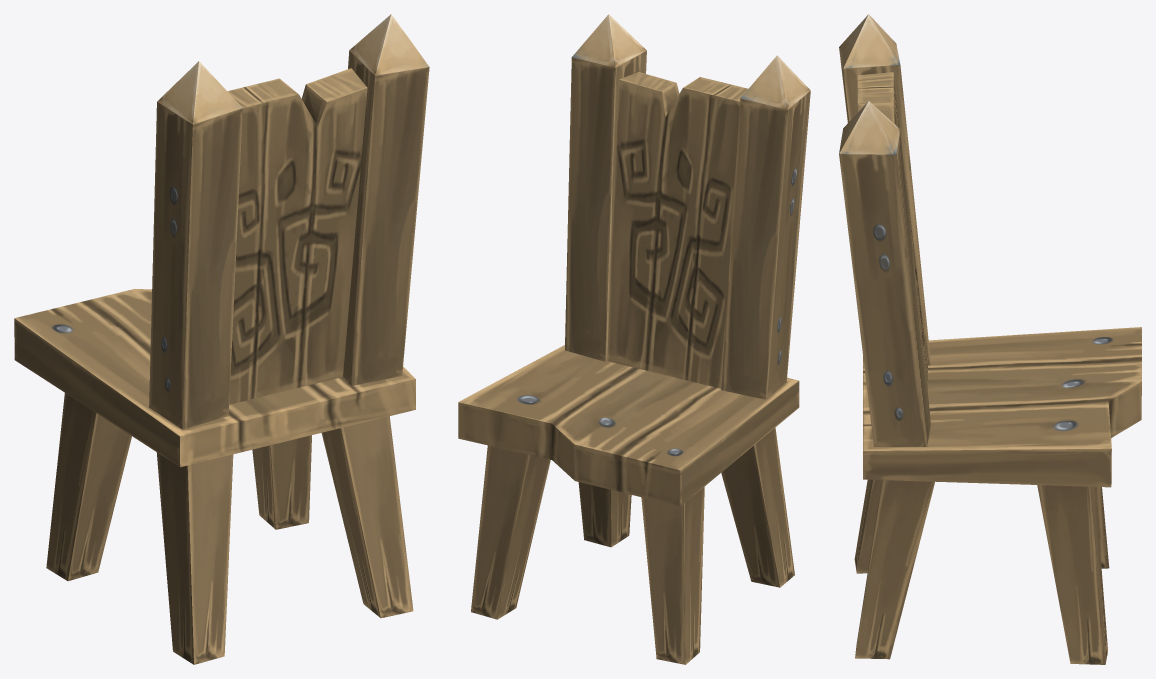
The model's file is chair.FBX.
3 views of the same model, side by side, from view 1: azimuth 30°, elevation 25°; view 2: azimuth 150°, elevation 25°; view 3: azimuth 270°, elevation 25° (orthographic). The views are drawn at different scales.
Visible parts, largest first — view 1: chair; view 2: chair; view 3: chair.
Boxes of the visible parts, x1=… form: chair: x1=14, y1=14, x2=429, y2=664; chair: x1=458, y1=14, x2=810, y2=664; chair: x1=839, y1=14, x2=1141, y2=664.
Bounding box in the file's own units: 22.42 × 47.32 × 23.58.
